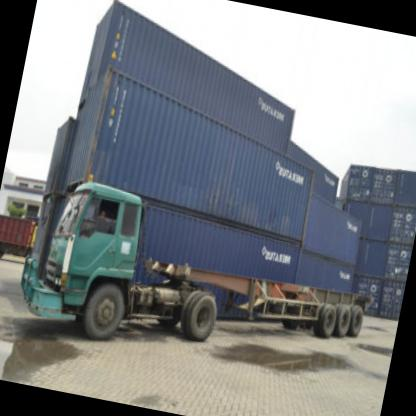truck: (28, 174, 154, 348)
